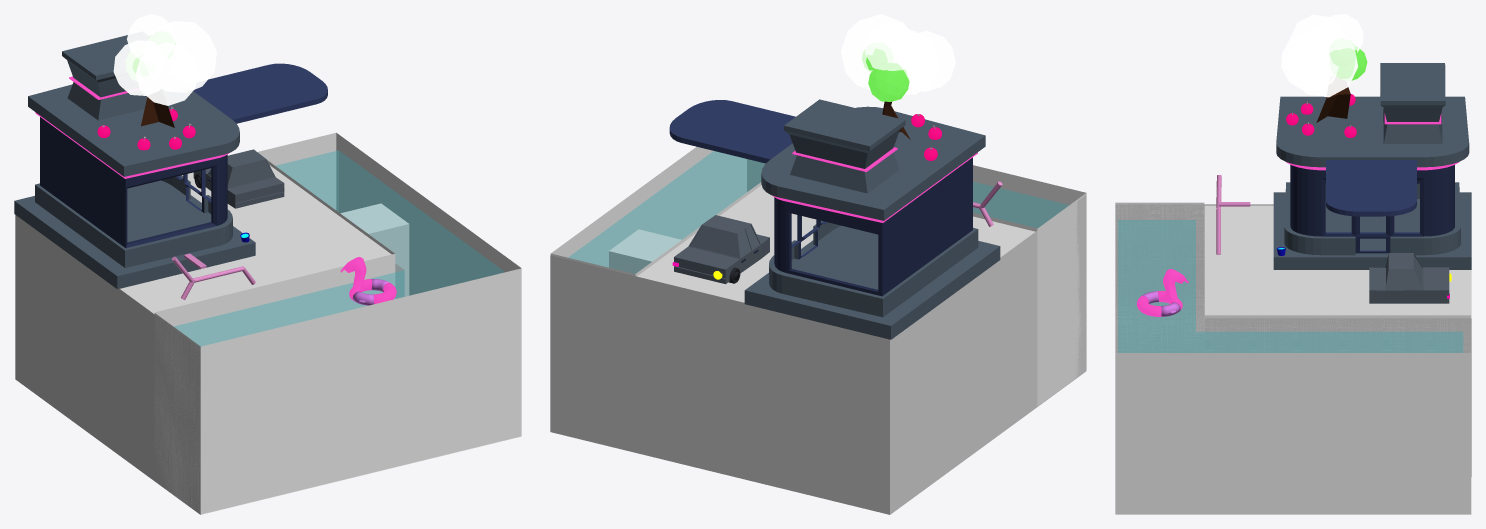
The model's file is AR-3DCG.glb.
The picture shows the model from 3 angles, left to right: view 1: azimuth 30°, elevation 25°; view 2: azimuth 150°, elevation 25°; view 3: azimuth 270°, elevation 25°; orthographic projection. The views are drawn at different scales.
Parts seen in each view (by area): view 1: Cube.001, Cube, 立方体.005, 立方体.008, 立方体, 立方体.001, Icosphere.006, 立方体.006, 立方体.009, Icosphere.007, 立方体.007, 立方体.017 (+3 smaller); view 2: Cube, Cube.001, 立方体.005, 立方体, 立方体.001, 立方体.008, 立方体.007, 立方体.006, Icosphere.006, 立方体.009, 立方体.017, Icosphere.007 (+2 smaller); view 3: Cube.001, Cube, 立方体.005, 立方体.008, 立方体, 立方体.001, 立方体.006, 立方体.007, Icosphere.006, Icosphere.007, 立方体.017, 立方体.009 (+4 smaller).
Boxes of the visible parts, left/top/right/bottom form: Cube.001: left=154, top=132, right=521, bottom=514; Cube: left=15, top=165, right=520, bottom=514; 立方体.005: left=174, top=150, right=504, bottom=346; 立方体.008: left=28, top=84, right=239, bottom=176; 立方体: left=14, top=180, right=255, bottom=289; 立方体.001: left=40, top=117, right=227, bottom=247; Icosphere.006: left=113, top=21, right=216, bottom=95; 立方体.006: left=193, top=63, right=327, bottom=123; 立方体.009: left=35, top=175, right=232, bottom=267; Icosphere.007: left=127, top=14, right=198, bottom=105; 立方体.007: left=62, top=35, right=147, bottom=120; 立方体.017: left=193, top=149, right=284, bottom=208; Cube: left=550, top=185, right=1086, bottom=514; Cube.001: left=550, top=146, right=1086, bottom=405; 立方体.005: left=568, top=151, right=1068, bottom=273; 立方体: left=744, top=226, right=1000, bottom=339; 立方体.001: left=774, top=157, right=972, bottom=296; 立方体.008: left=761, top=106, right=985, bottom=220; 立方体.007: left=784, top=99, right=905, bottom=193; 立方体.006: left=669, top=100, right=795, bottom=163; Icosphere.006: left=841, top=14, right=955, bottom=91; 立方体.009: left=769, top=220, right=978, bottom=317; 立方体.017: left=674, top=215, right=769, bottom=284; Icosphere.007: left=865, top=23, right=938, bottom=94; Cube.001: left=1115, top=202, right=1470, bottom=514; Cube: left=1115, top=204, right=1471, bottom=514; 立方体.005: left=1118, top=220, right=1462, bottom=352; 立方体.008: left=1276, top=96, right=1469, bottom=167; 立方体: left=1273, top=192, right=1471, bottom=269; 立方体.001: left=1290, top=165, right=1454, bottom=253; 立方体.006: left=1326, top=160, right=1416, bottom=216; 立方体.007: left=1380, top=63, right=1445, bottom=143; Icosphere.006: left=1287, top=14, right=1358, bottom=97; Icosphere.007: left=1281, top=14, right=1363, bottom=89; 立方体.017: left=1369, top=253, right=1449, bottom=303; 立方体.009: left=1284, top=182, right=1460, bottom=255.
Bounding box in the file's own units: 2.01 × 2.36 × 2.
